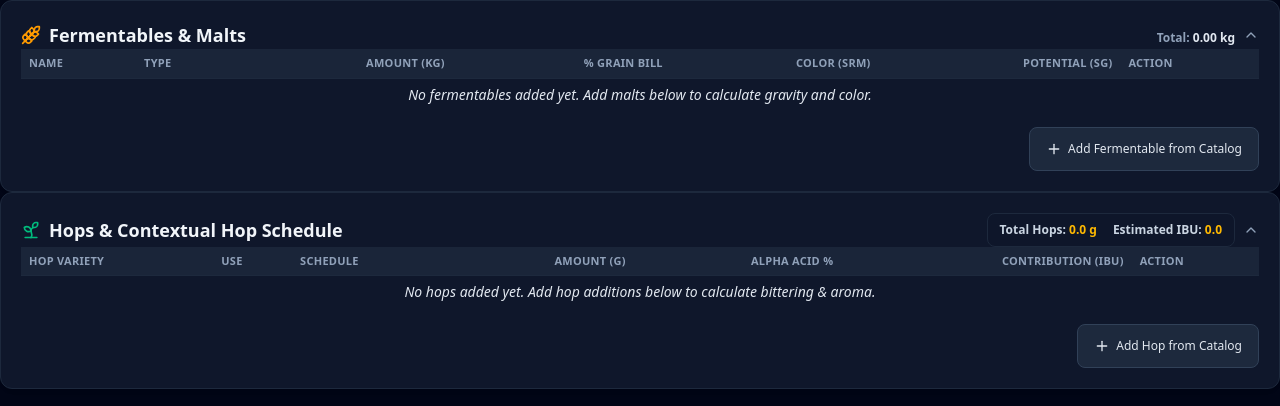
AC-5..AC-8: collapsibility, independence and badge at component level › AC-7: collapsing recipe-hops does not collapse the other ingredient cards
The width and height of the screenshot is (1280, 406).
Click the button with test id "recipe-hops-toggle" at coordinates (196, 230), box [21,212,1259,246]
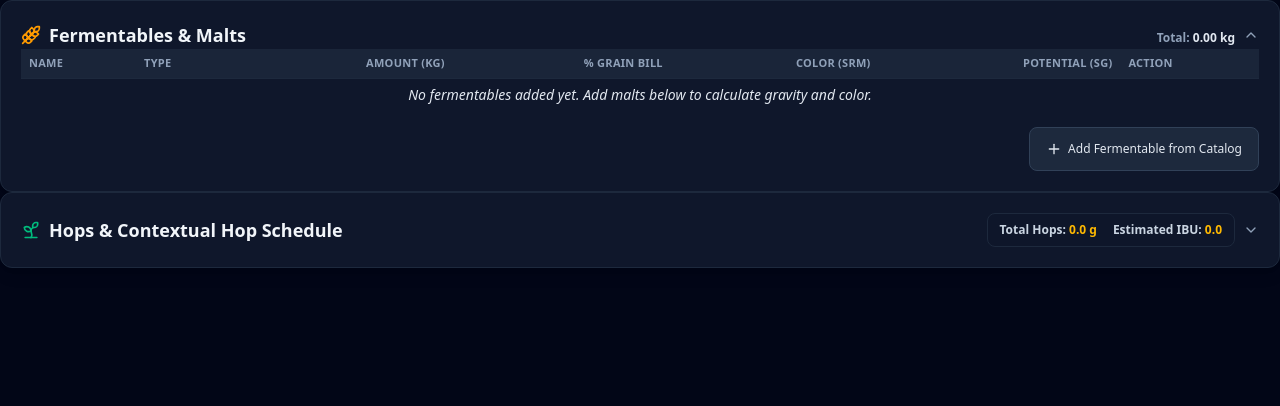
Expected: the element with test id "recipe-fermentables-panel" is shown, [21,49,1259,170]
Now the element with test id "recipe-hops-panel" is gone
